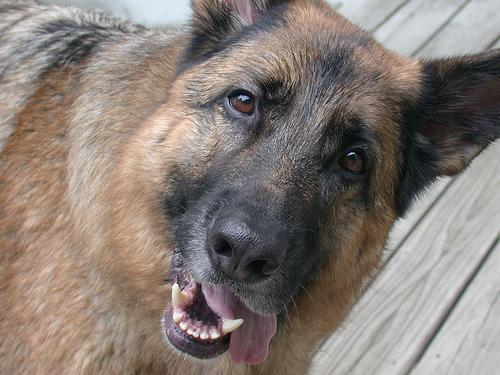German_shepherd: (1, 0, 499, 374)
